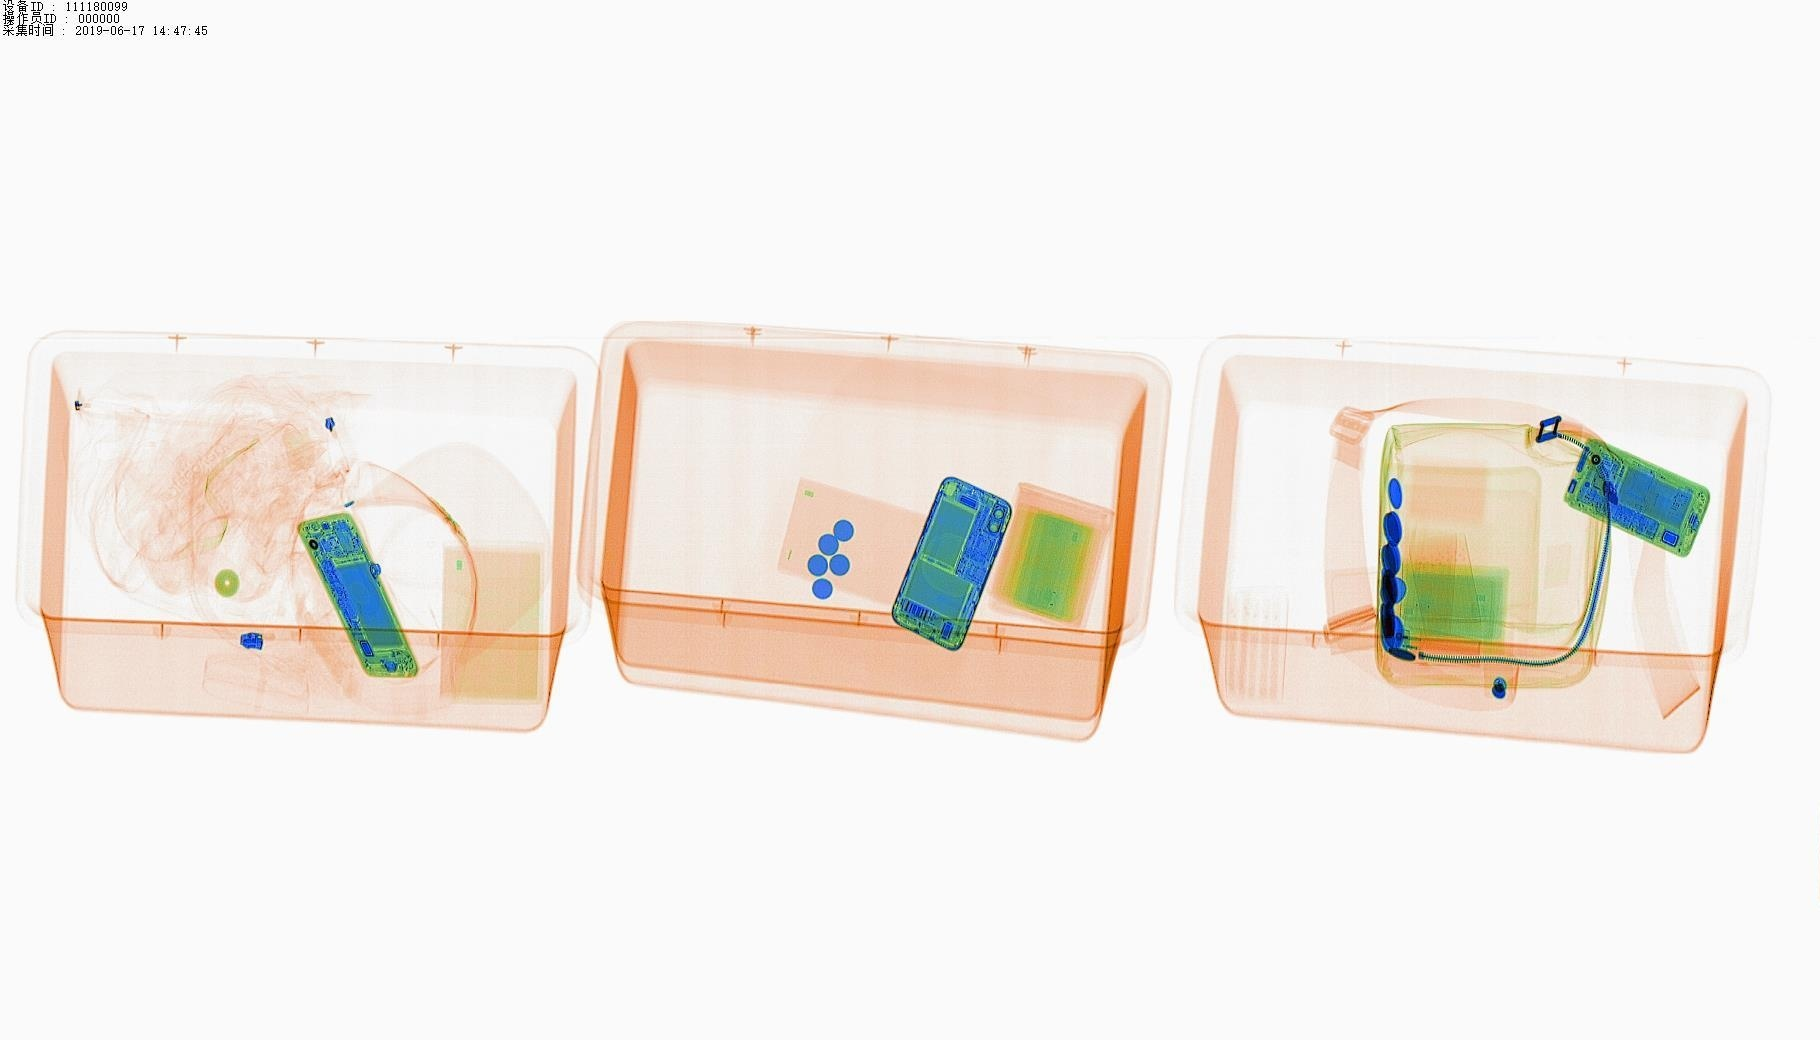NonmetallicFire: (1390, 624, 1492, 676)
